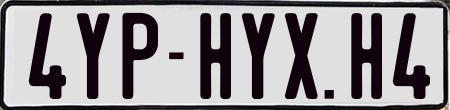4: (393, 12, 436, 103), (28, 10, 70, 99)
H: (200, 11, 235, 101), (348, 13, 379, 102)
P: (120, 11, 159, 98)
X: (283, 10, 318, 100)
Y: (242, 10, 280, 100), (76, 13, 114, 99)
